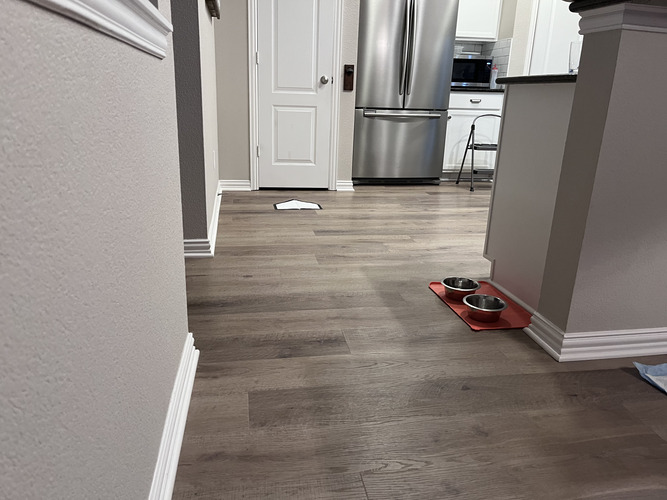homeplate: (273, 198, 322, 211)
